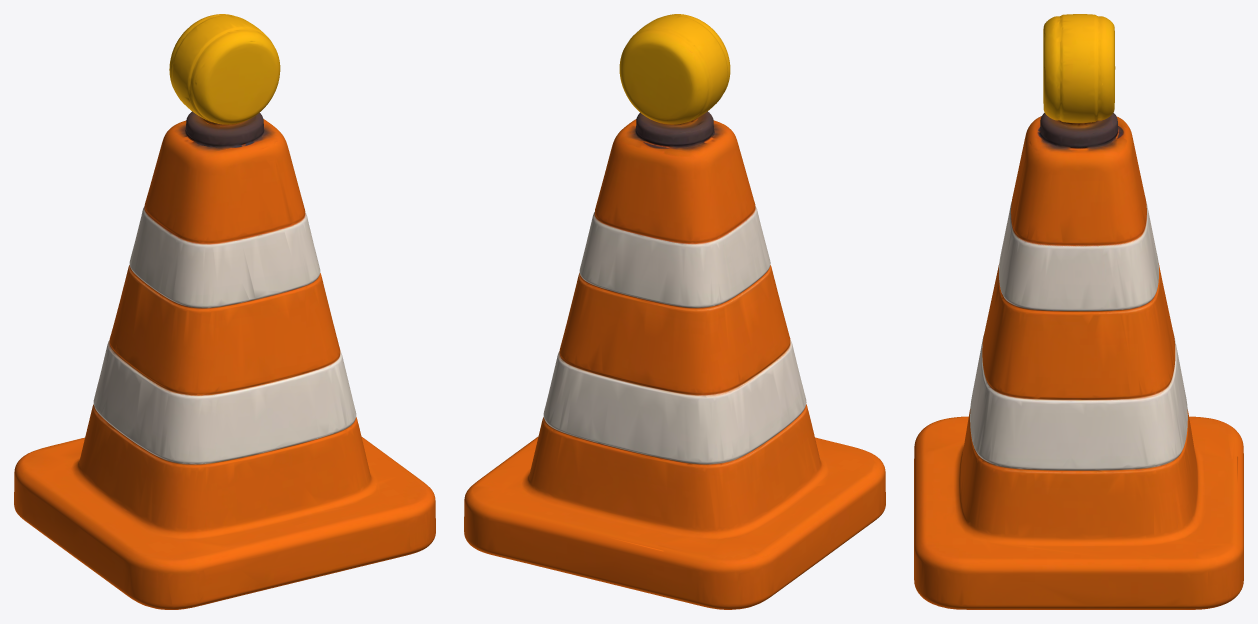
Rendered from firstsample.glb.
The picture shows the model from 3 angles, left to right: view 1: azimuth 30°, elevation 25°; view 2: azimuth 150°, elevation 25°; view 3: azimuth 270°, elevation 25°; orthographic projection. The views are drawn at different scales.
Parts seen in each view (by area): view 1: node_0; view 2: node_0; view 3: node_0.
Part boxes in pixels (x1=…): node_0: x1=14, y1=14, x2=435, y2=609; node_0: x1=464, y1=14, x2=885, y2=609; node_0: x1=914, y1=14, x2=1243, y2=609.
Bounding box in the file's own units: 0.6016 × 0.9618 × 0.5536.
Materials: 1 (1 with a texture image).
